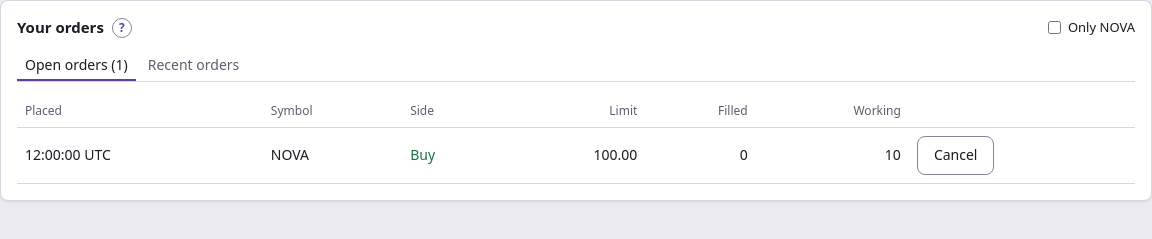
Test: OwnOrders in a closed market › drops the advice to try a failed cancel again once the market has closed
Click the button with aria-label "Cancel buy NOVA at 100.00". click: [956, 156]
box: [917,136,994,175]
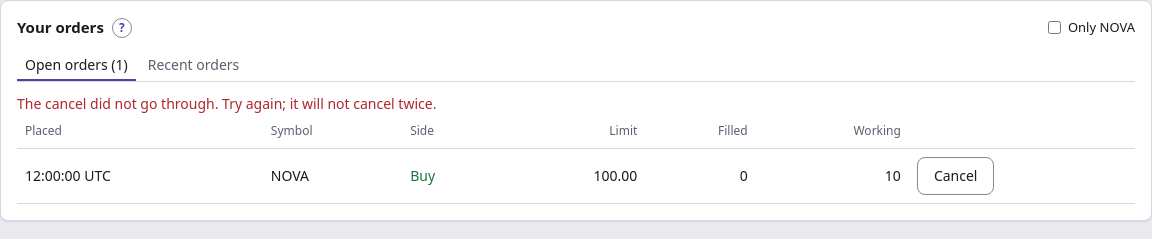
Expected: the message shows "The cancel did not go through. Try again", [17,94,436,113]
